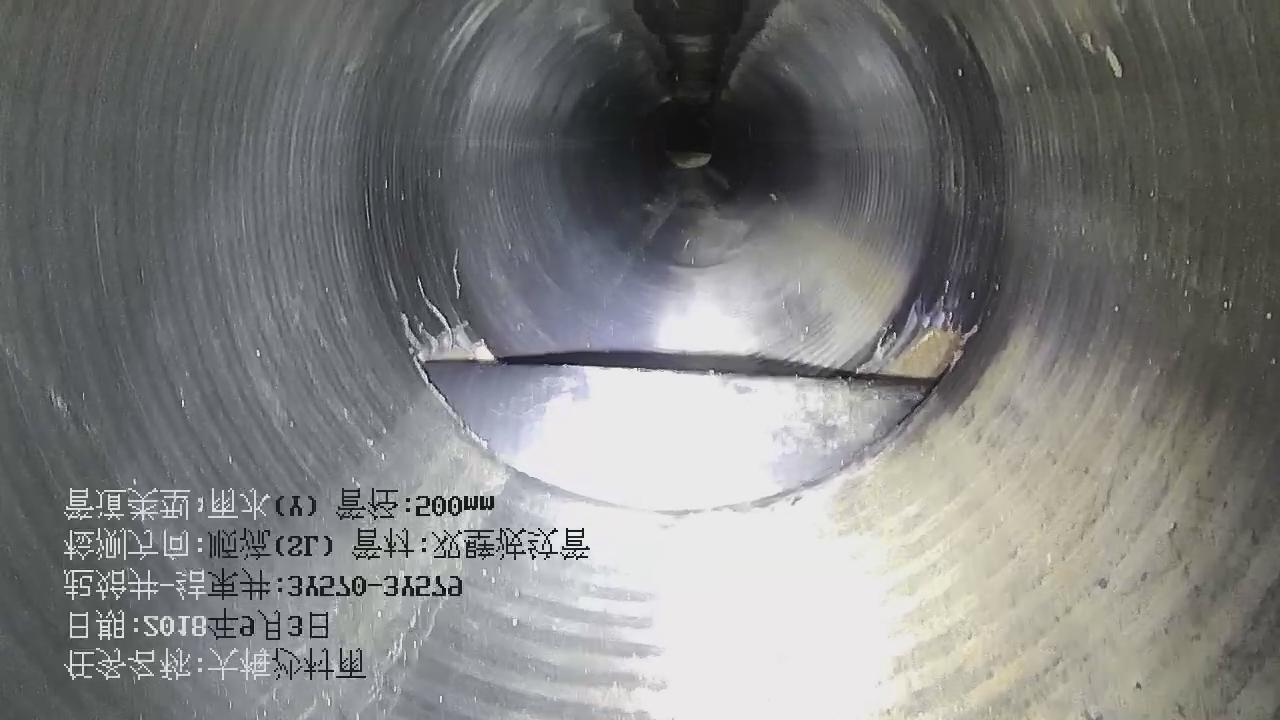YWCR: (424, 352, 939, 514)
